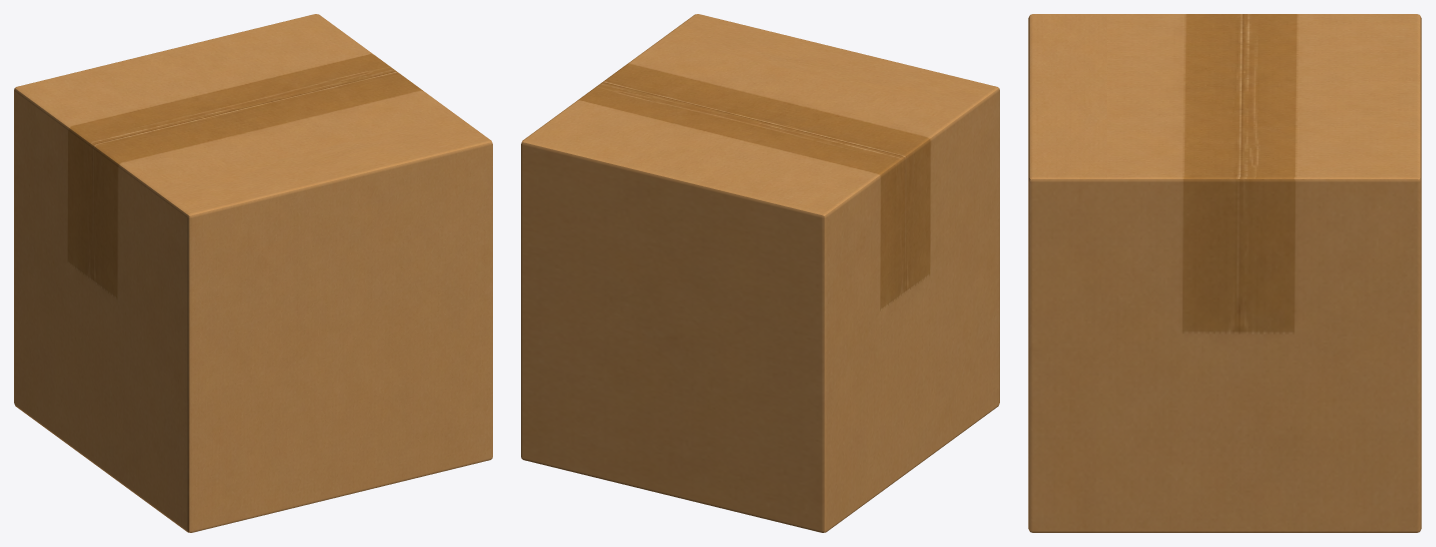
Rendered from obs2.fbx.
3 views of the same model, side by side, from view 1: azimuth 30°, elevation 25°; view 2: azimuth 150°, elevation 25°; view 3: azimuth 270°, elevation 25° (orthographic). The views are drawn at different scales.
Visible parts, largest first — view 1: pCube39; view 2: pCube39; view 3: pCube39.
Boxes of the visible parts, <box> form: pCube39: <box>14,14,492,532</box>; pCube39: <box>521,14,999,532</box>; pCube39: <box>1028,14,1421,532</box>.
Size of the model in its own units: 1 by 1 by 1.
1 material, 1 textured.
